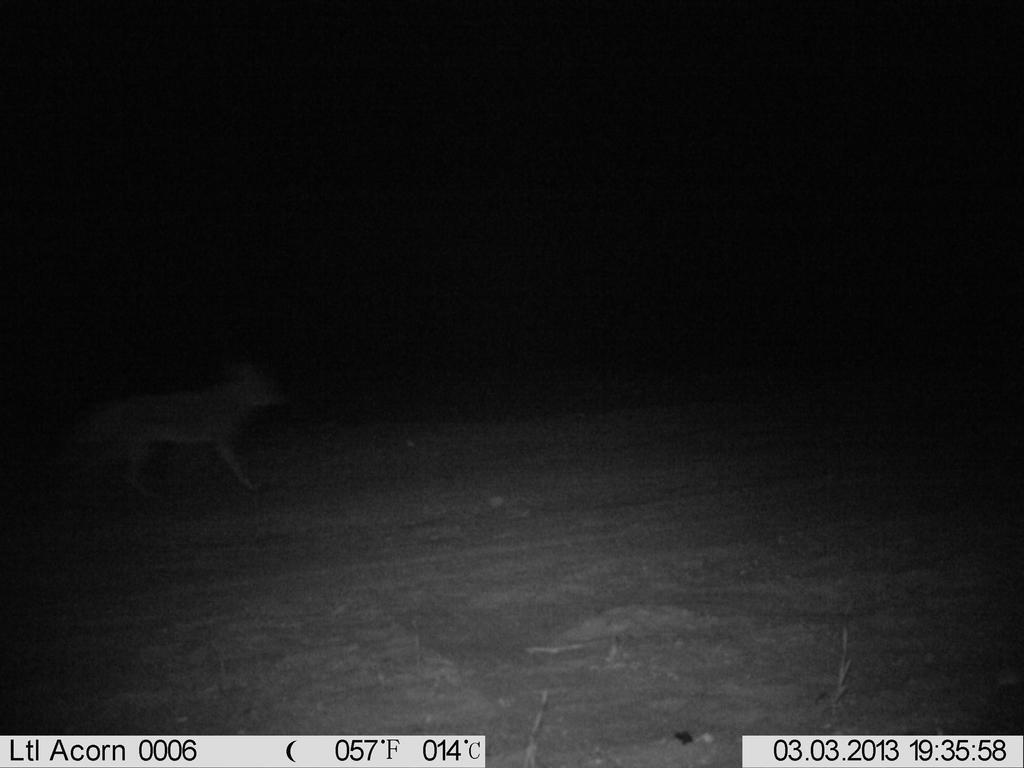coyote: (47, 359, 292, 505)
